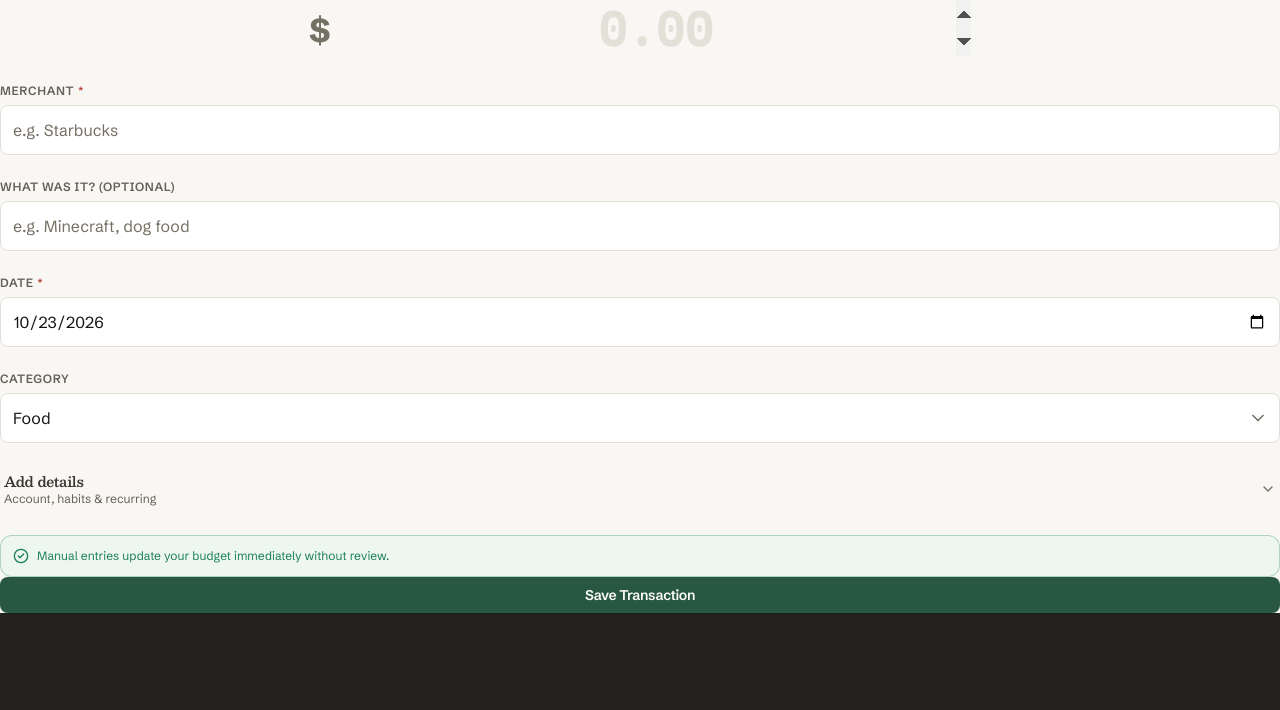
Test: CaptureTransactionManual › renders no habit section when the household has no habits
The image size is (1280, 710).
Click the button "Add details Account, habits & recurring" at (44, 481), box x1=0 y1=467 x2=1279 y2=511
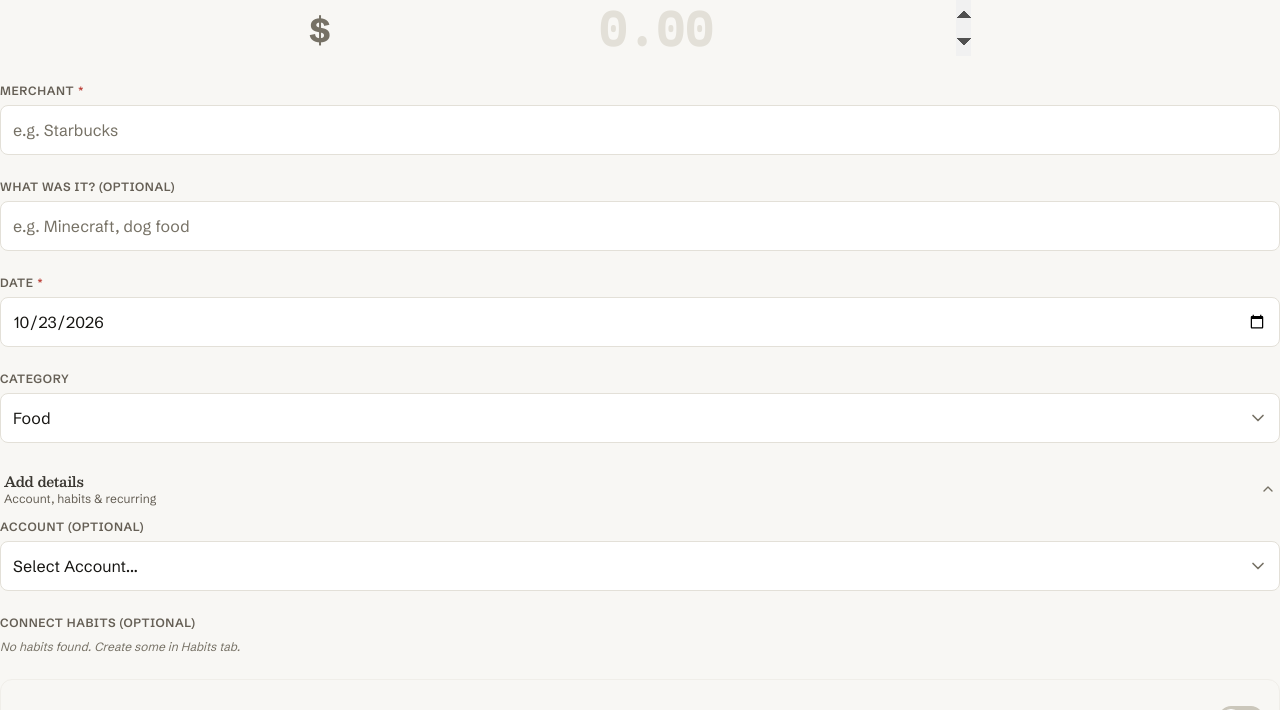
Now the text "Connect Habits (Optional)" is shown, box x1=0 y1=615 x2=196 y2=630
Now the text "No habits found. Create some in Habits tab." is shown, box x1=0 y1=639 x2=240 y2=654
